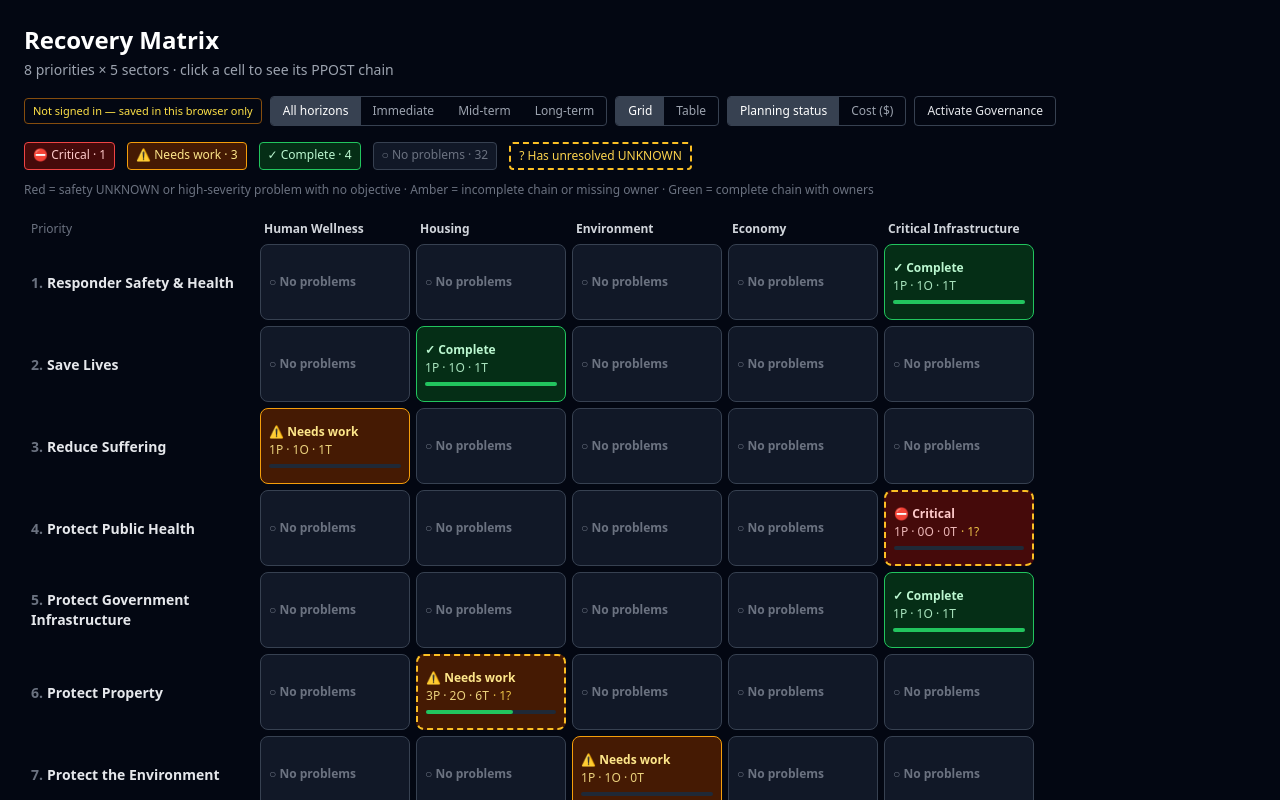
it: clicking a cell opens its PPOST chain and links to the workspace
Click the button with aria-label "Protect Property × Housing:" at (491, 692), box [416, 654, 566, 730]
(page scrolled)
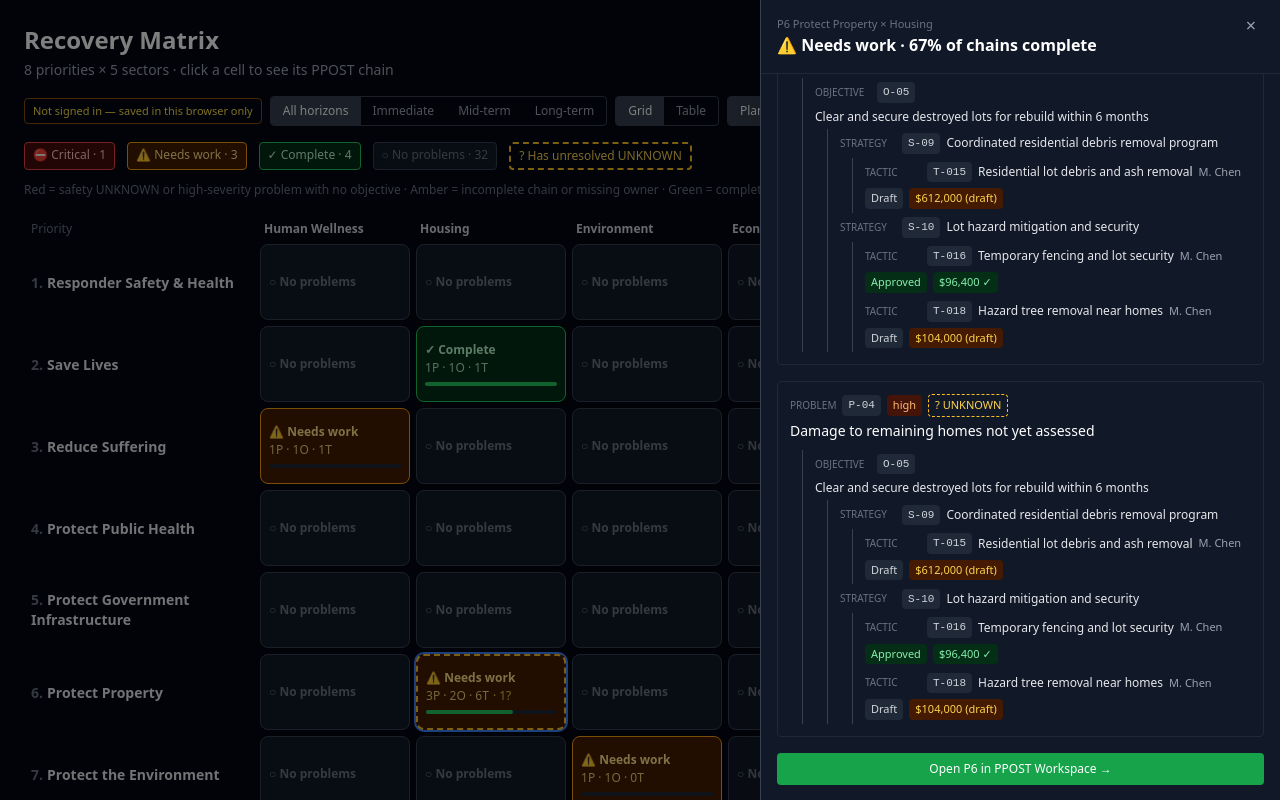
Click the button "Open P6 in PPOST Workspace →" at (1020, 768), box [777, 752, 1264, 784]
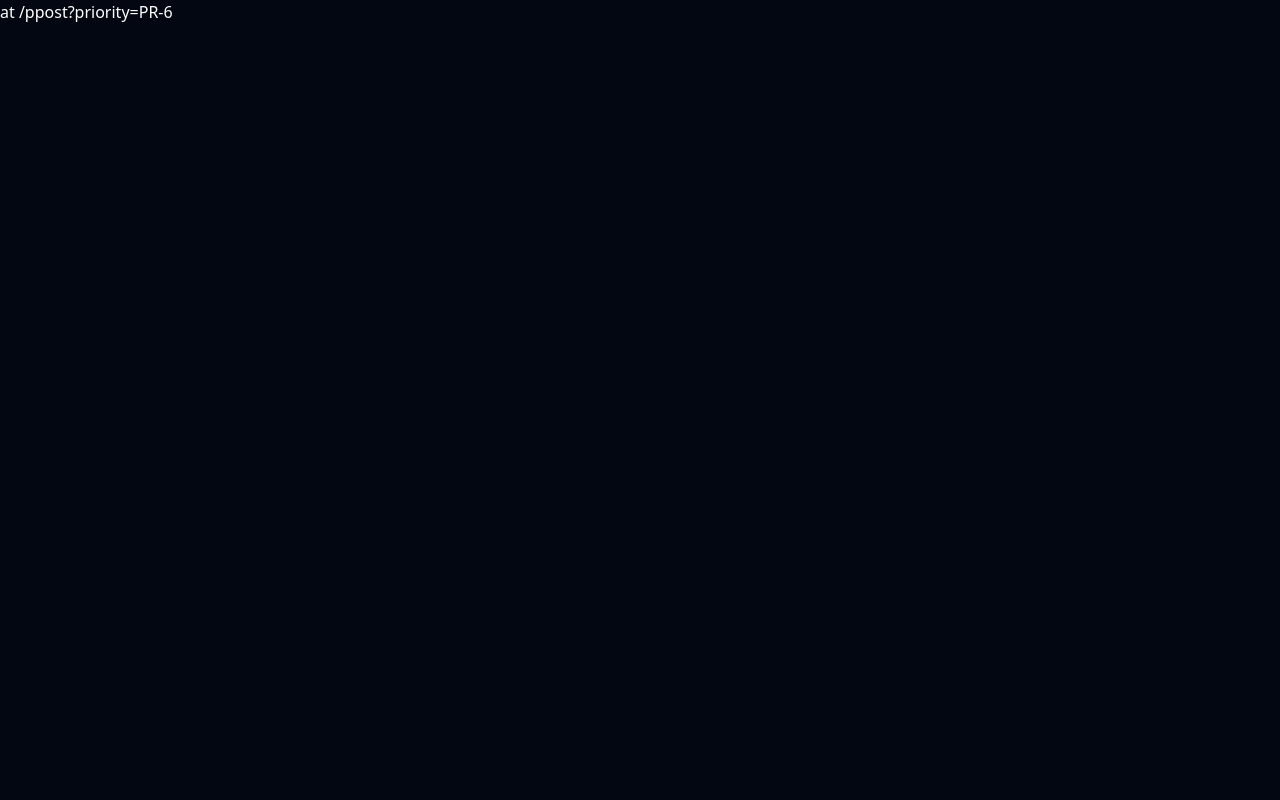
Now the text "at /ppost?priority=PR-6" is shown, box [0, 1, 173, 23]
